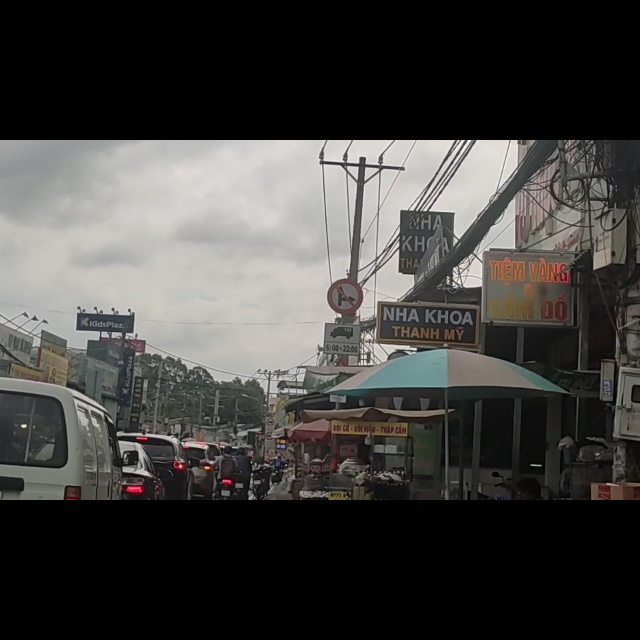bien_cam: (327, 245, 363, 309), (324, 327, 359, 380)
